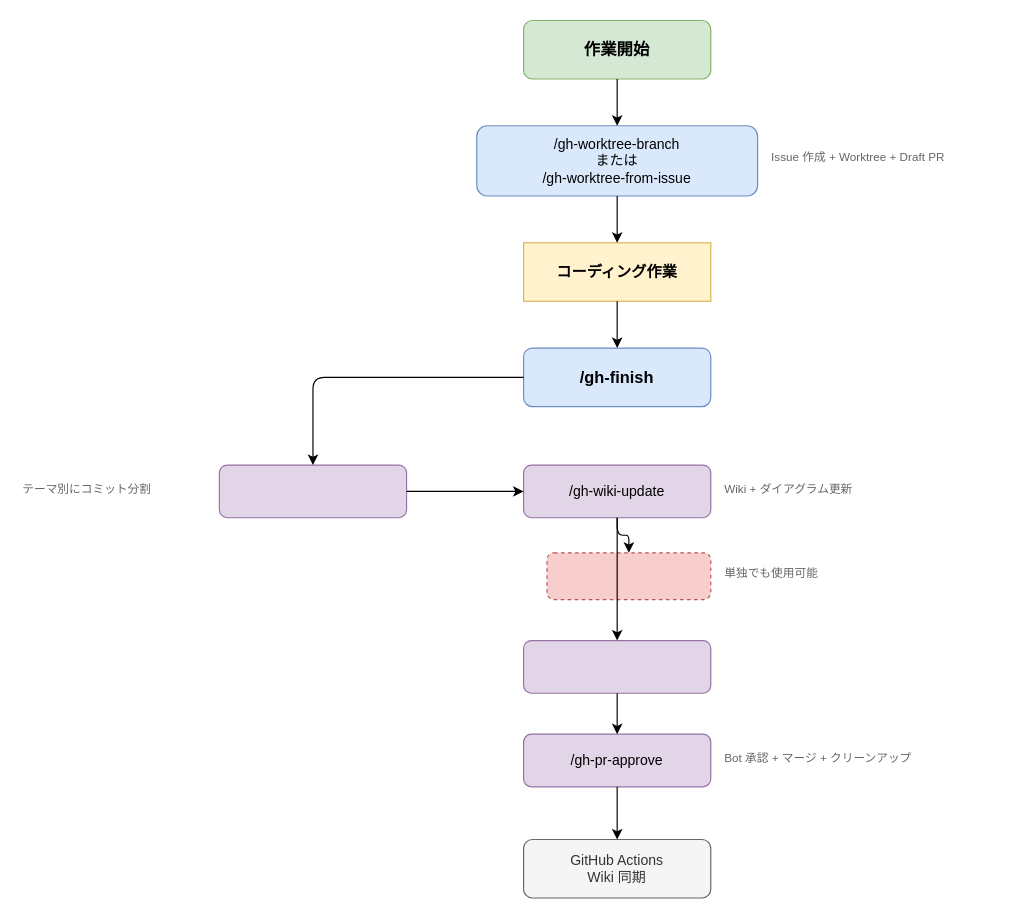
Some shapes in this 1023 by 918 pixel diagram are drawn without their labels. Each missing label, with the centre of its shape:
"/draw-io-to-wiki" belongs at (x=628, y=576).
"/gh-pr-create" belongs at (x=616, y=666).
"/smart-commit" belongs at (x=312, y=491).
